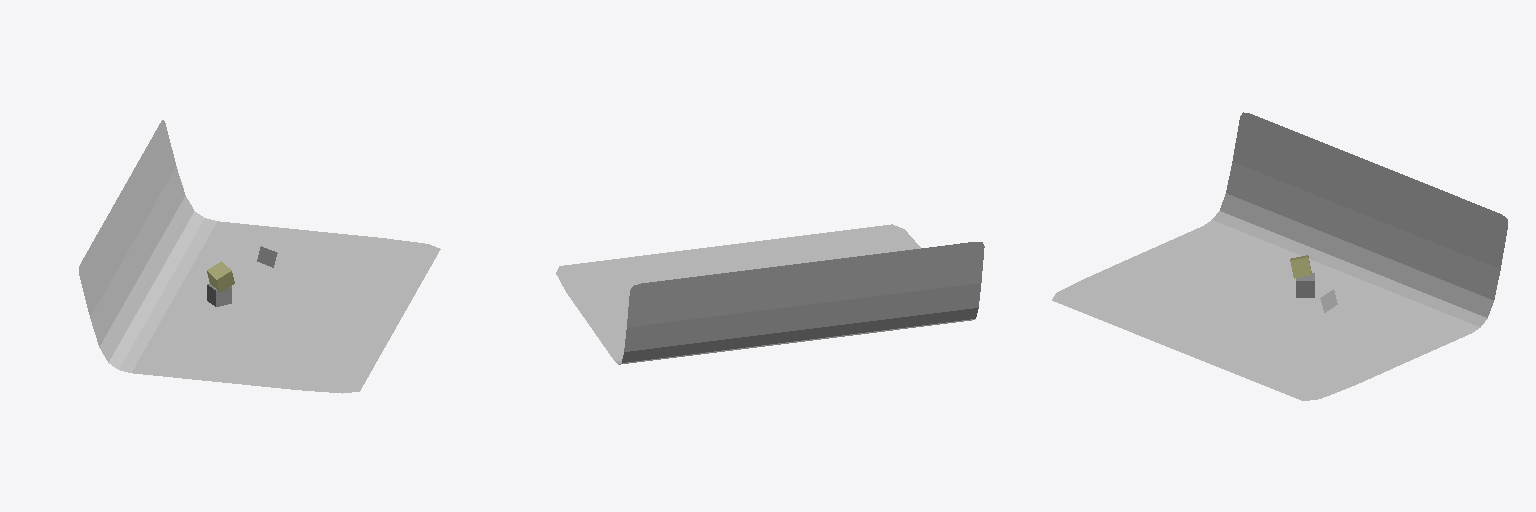
3 renders of one model, left to right at view 1: azimuth 30°, elevation 25°; view 2: azimuth 150°, elevation 25°; view 3: azimuth 270°, elevation 25°, orthographic.
Parts seen in each view (by area): view 1: stage, Cube.001_Cube.002; view 2: stage; view 3: stage.
Boxes of the visible parts, <box> form: stage: <box>79,120,440,393</box>; Cube.001_Cube.002: <box>207,261,234,292</box>; stage: <box>556,224,984,364</box>; stage: <box>1052,112,1507,400</box>.
Bounding box in the file's own units: 49.12 × 11.85 × 49.41.